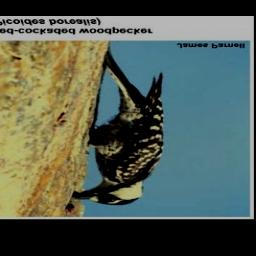Woodpecker: (66, 50, 170, 207)
